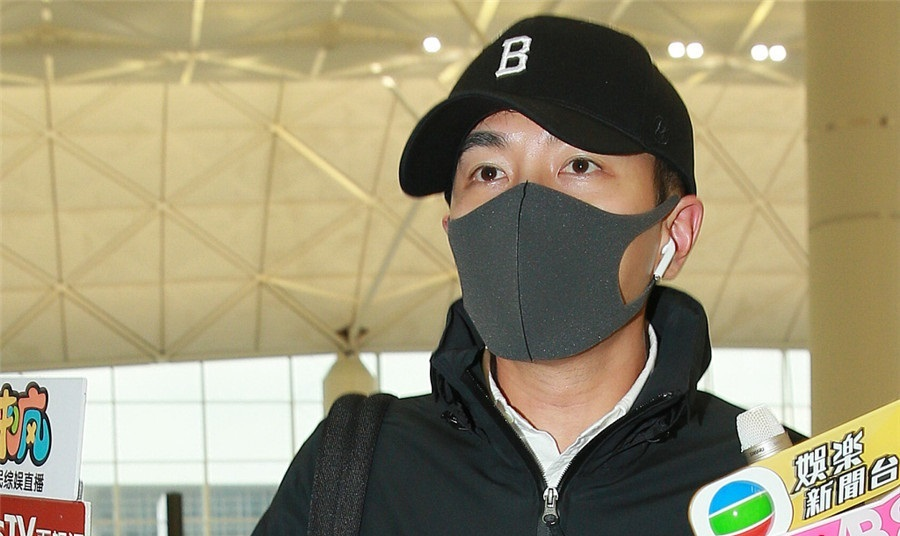face_mask: (447, 100, 642, 356)
